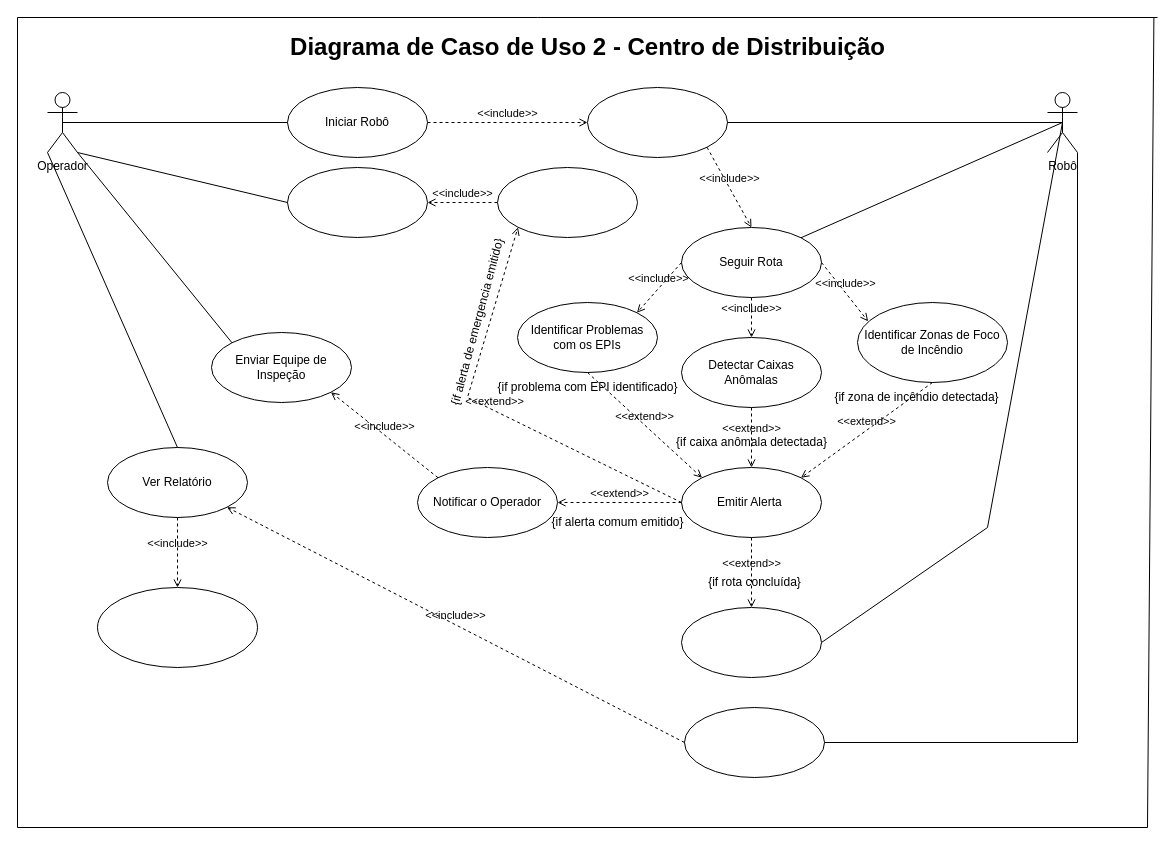
Image size: 1176x846. Some labels were removed from this diagram. The box of each missing label's shape, as (x1, y1, x2, y2) in pixels:
Definir Rota: (586, 86, 728, 158)
Emergência: (496, 166, 638, 238)
Gerar Relatório: (684, 706, 824, 778)
Parar Robô: (286, 166, 428, 238)
Retornar a Base: (680, 606, 822, 678)
Traçar estratégia com base no relatório: (96, 586, 258, 668)
